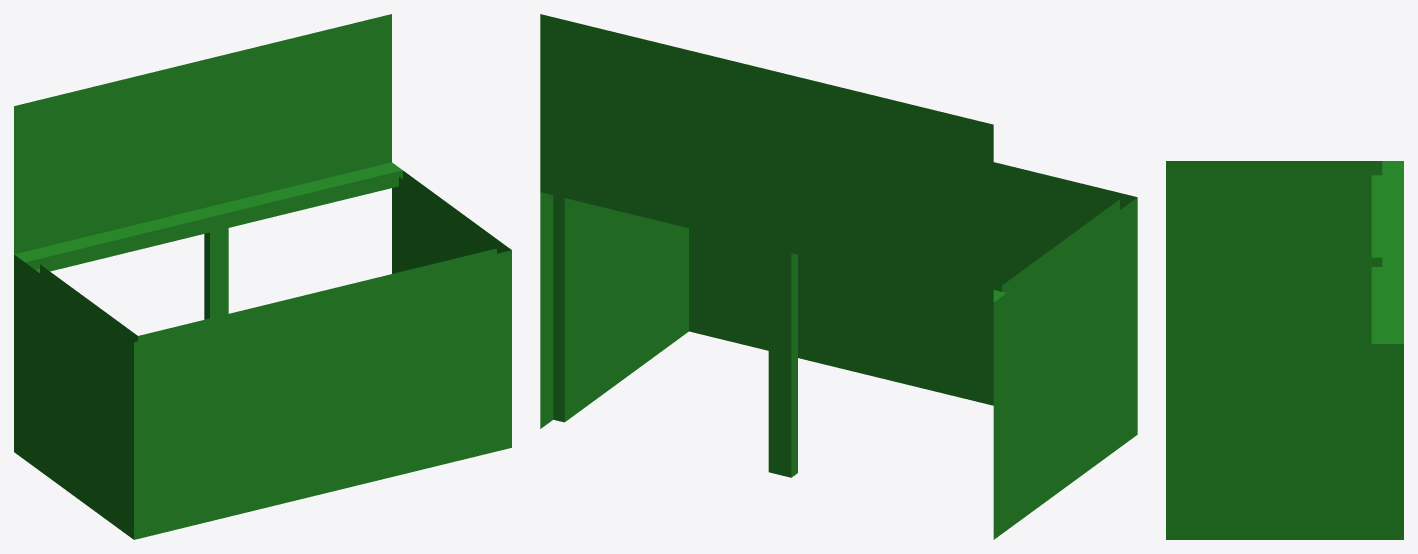
File: Puzzle_002_Elevator_Shaft_Bottom_Sides.fbx
3 renders of one model, left to right at view 1: azimuth 30°, elevation 25°; view 2: azimuth 150°, elevation 25°; view 3: azimuth 270°, elevation 25°, orthographic. The views are drawn at different scales.
Parts seen in each view (by area): view 1: Puzzle_002_Elevator_Shaft_Bottom_Sides; view 2: Puzzle_002_Elevator_Shaft_Bottom_Sides; view 3: Puzzle_002_Elevator_Shaft_Bottom_Sides.
Boxes of the visible parts, x1,y1,x2,y2 form: Puzzle_002_Elevator_Shaft_Bottom_Sides: [14, 14, 511, 539]; Puzzle_002_Elevator_Shaft_Bottom_Sides: [540, 14, 1137, 539]; Puzzle_002_Elevator_Shaft_Bottom_Sides: [1166, 161, 1403, 539].
Size of the model in its own units: 800 by 700 by 440.
